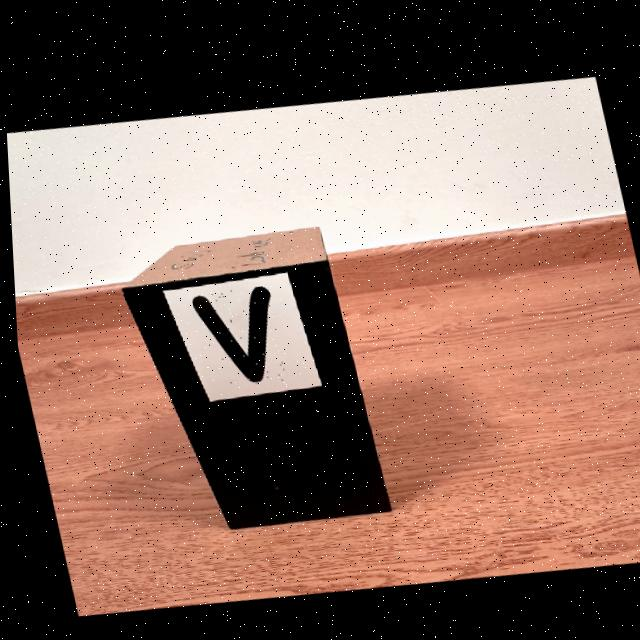V: (189, 282, 268, 378)
